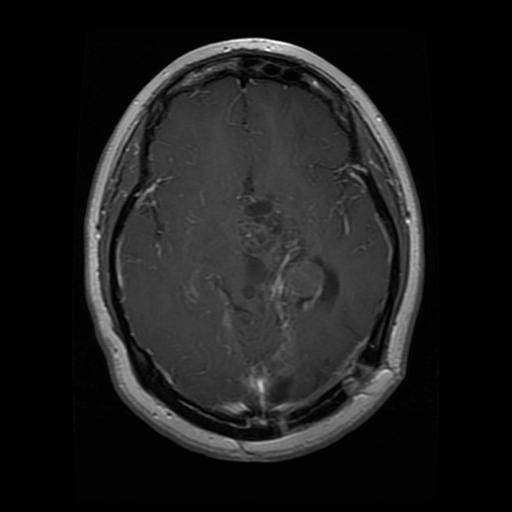Gliomia_tumour: (239, 173, 340, 397)
